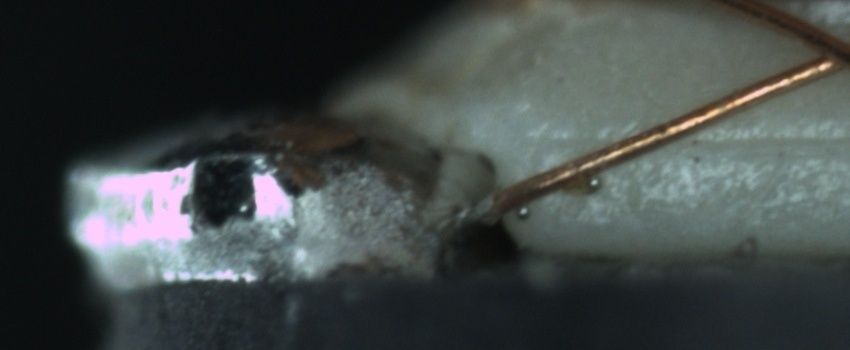CL: (795, 18, 848, 79)
DL: (548, 112, 849, 170)
